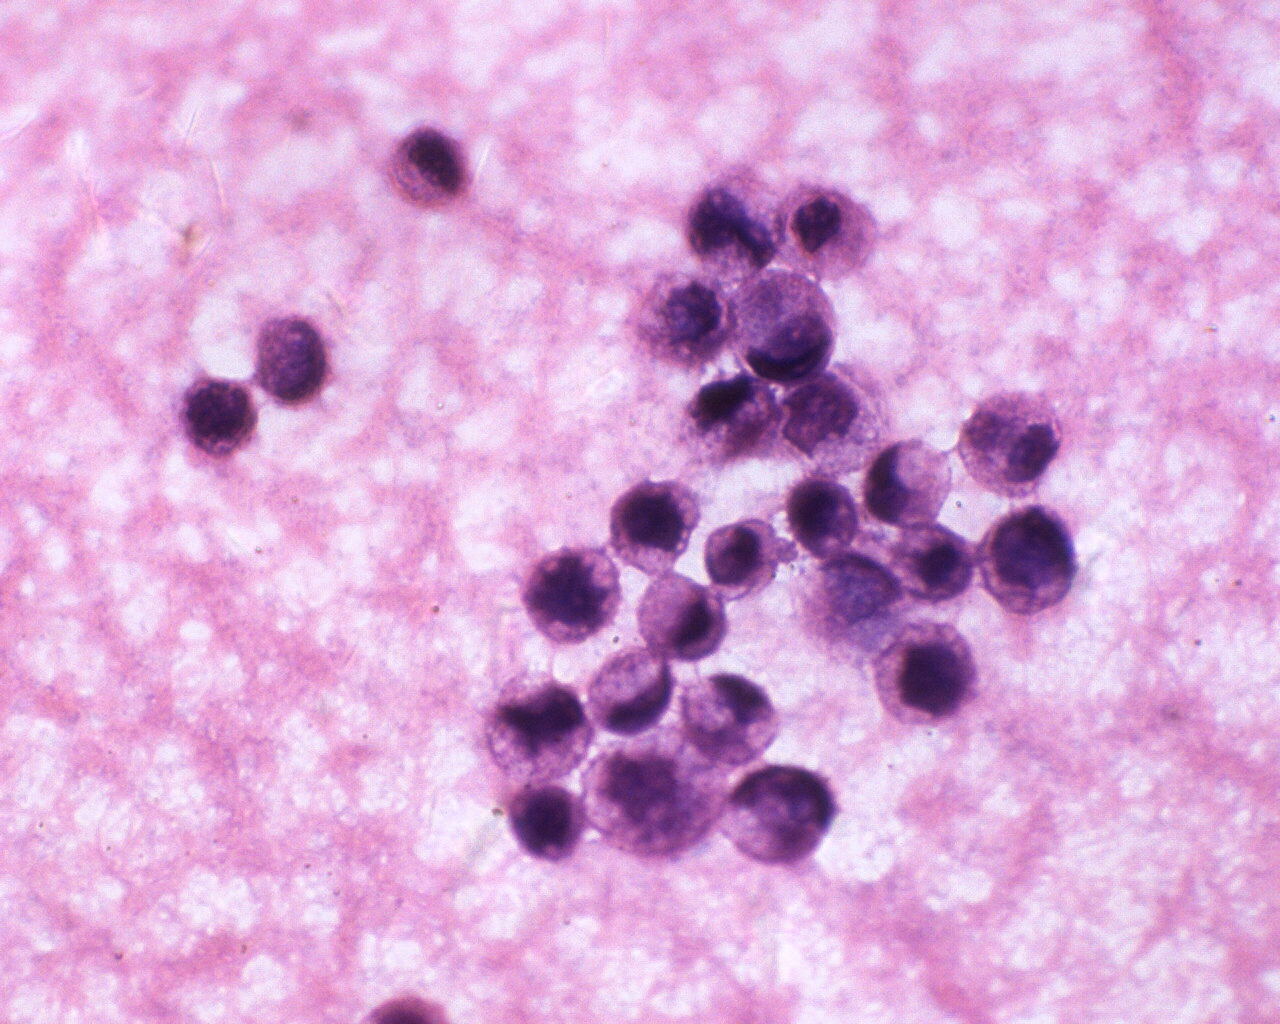ab: (970, 497, 1083, 618), (483, 670, 596, 785), (872, 618, 979, 728), (526, 548, 624, 645), (609, 475, 701, 576), (866, 438, 962, 529), (252, 309, 338, 410), (504, 779, 589, 870), (174, 374, 263, 460), (784, 473, 867, 563), (702, 512, 782, 604)
meso: (954, 385, 1064, 496)
